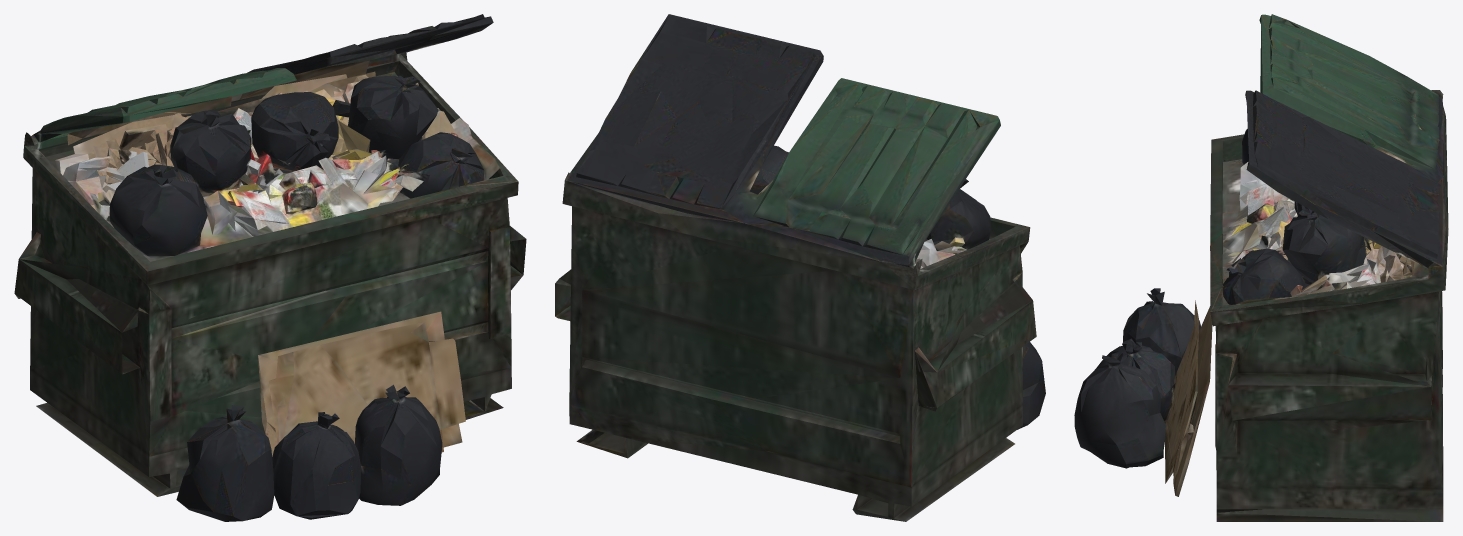
Rendered from ncz-dumpster.glb.
3 renders of one model, left to right at view 1: azimuth 30°, elevation 25°; view 2: azimuth 150°, elevation 25°; view 3: azimuth 270°, elevation 25°, orthographic. The views are drawn at different scales.
Parts seen in each view (by area): view 1: output_unwrapped; view 2: output_unwrapped; view 3: output_unwrapped.
Part boxes in pixels (<box>): output_unwrapped: <box>14,14,526,521</box>; output_unwrapped: <box>555,14,1045,521</box>; output_unwrapped: <box>1074,14,1448,521</box>.
Size of the model in its own units: 1.9 by 1.72 by 1.59.
1 material, 1 textured.
